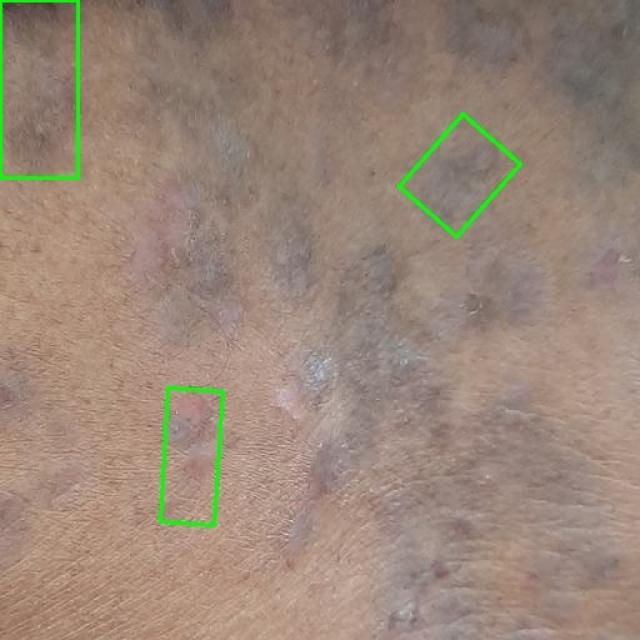Contact Dermatitis: (399, 114, 520, 237), (0, 0, 78, 178), (160, 389, 223, 525)
